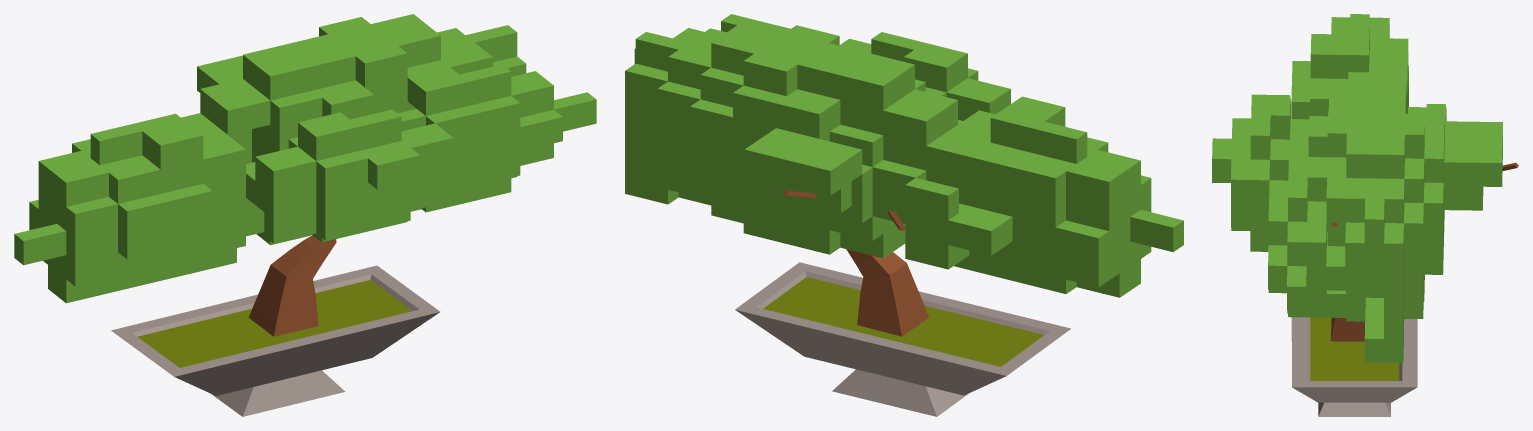
Rendered from Bonsai 1.fbx.
3 views of the same model, side by side, from view 1: azimuth 30°, elevation 25°; view 2: azimuth 150°, elevation 25°; view 3: azimuth 270°, elevation 25° (orthographic). The views are drawn at different scales.
Visible parts, largest first — view 1: Cube.007; view 2: Cube.007; view 3: Cube.007.
Boxes of the visible parts, x1,y1,x2,y2 form: Cube.007: (14,14,596,416); Cube.007: (625,14,1183,416); Cube.007: (1212,14,1518,416).
Size of the model in its own units: 1101 by 609 by 536.
